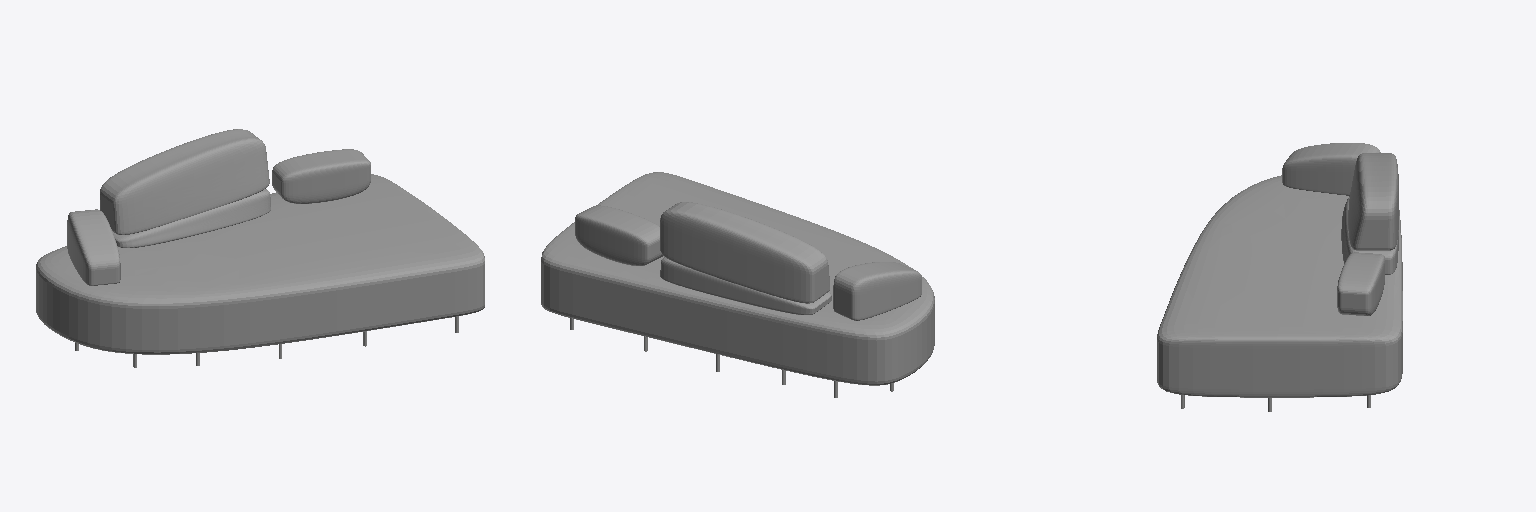
Rendered from DesignSofa1.obj.
3 renders of one model, left to right at view 1: azimuth 30°, elevation 25°; view 2: azimuth 150°, elevation 25°; view 3: azimuth 270°, elevation 25°, orthographic.
Parts seen in each view (by area): view 1: Sofa.001_Sofa, Backrest.001_Backrest; view 2: Sofa.001_Sofa, Backrest.001_Backrest; view 3: Sofa.001_Sofa, Backrest.001_Backrest.
Boxes of the visible parts, box(x1,y1,x2,y2) form: Sofa.001_Sofa: box(36, 174, 484, 354); Backrest.001_Backrest: box(67, 129, 370, 285); Sofa.001_Sofa: box(541, 172, 934, 385); Backrest.001_Backrest: box(575, 202, 921, 320); Sofa.001_Sofa: box(1157, 175, 1402, 397); Backrest.001_Backrest: box(1282, 143, 1398, 315).
Bounding box in the file's own units: 4.63 × 1.93 × 2.76.